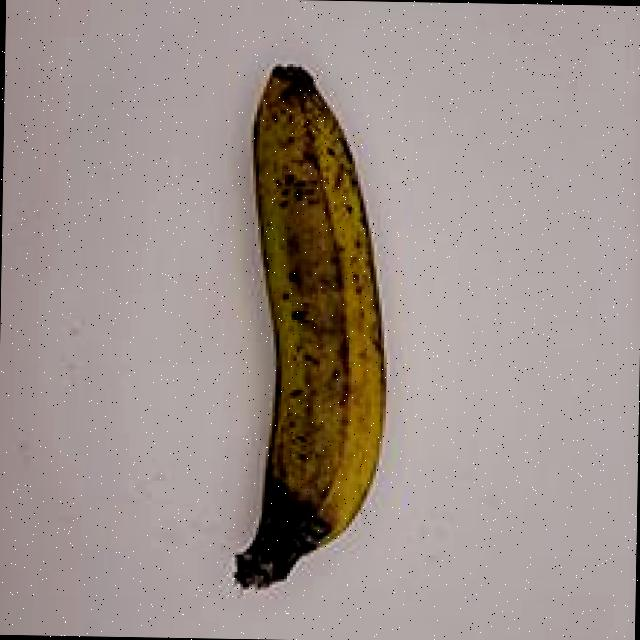Overripe: (180, 34, 430, 622)
